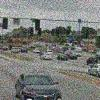cars: (15, 71, 62, 100)
